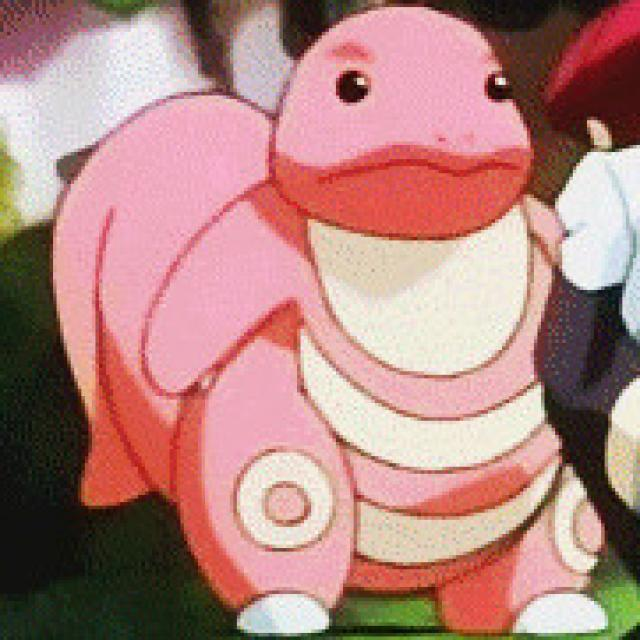Lickitung: (45, 12, 562, 640)
